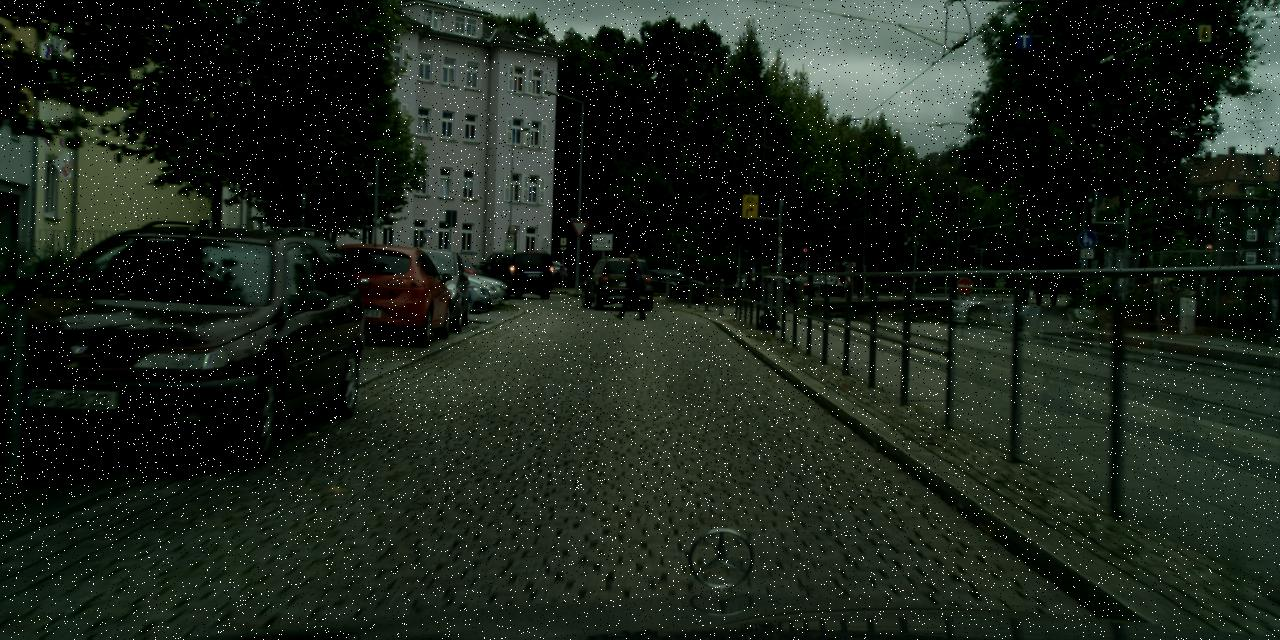ped: (618, 253, 645, 319)
